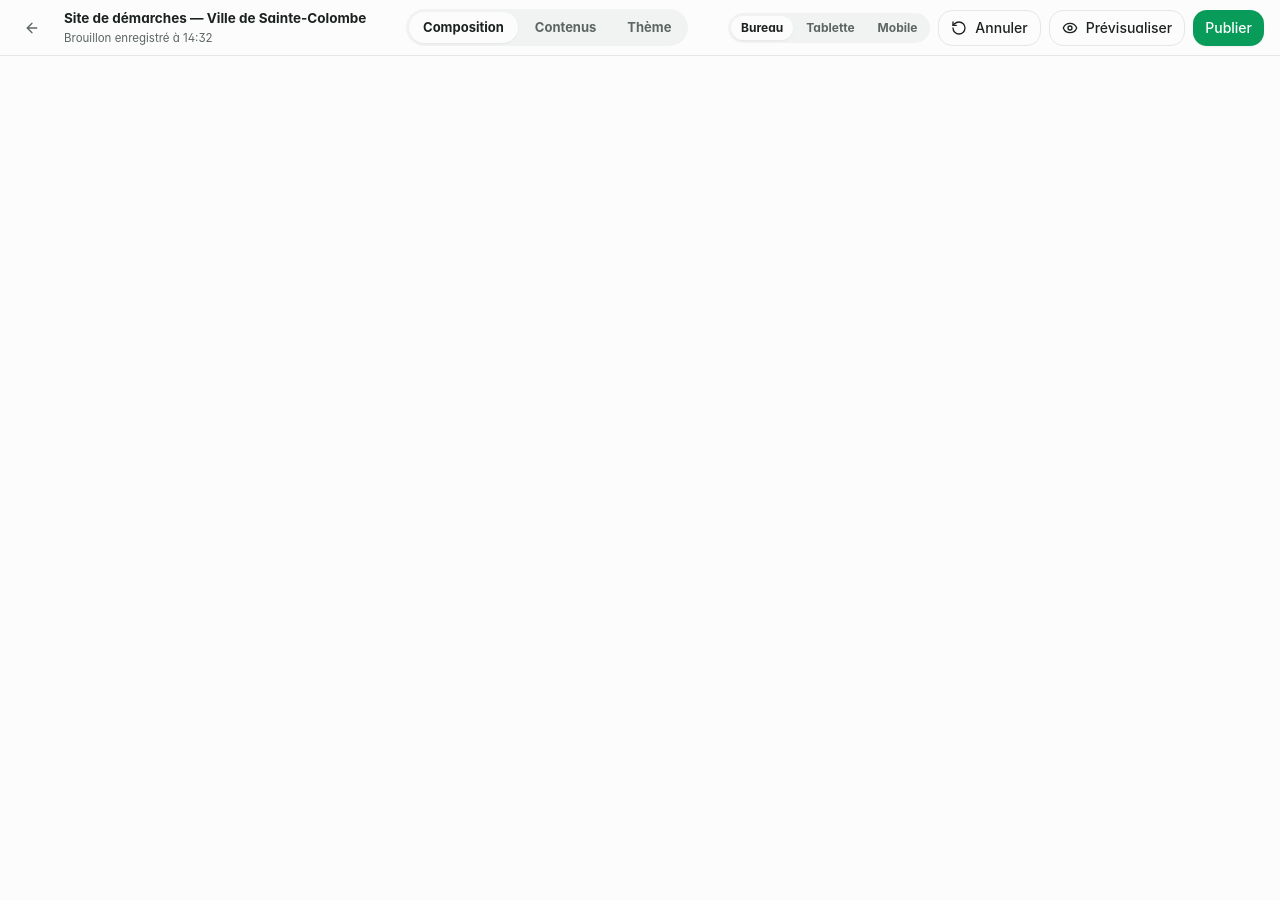
it: PortalEditor — contenus › ni appareil ni aperçu : un texte long ne se prévisualise pas par écran
Click the tab "Contenus". click: (566,28)
box: [521,12,610,43]
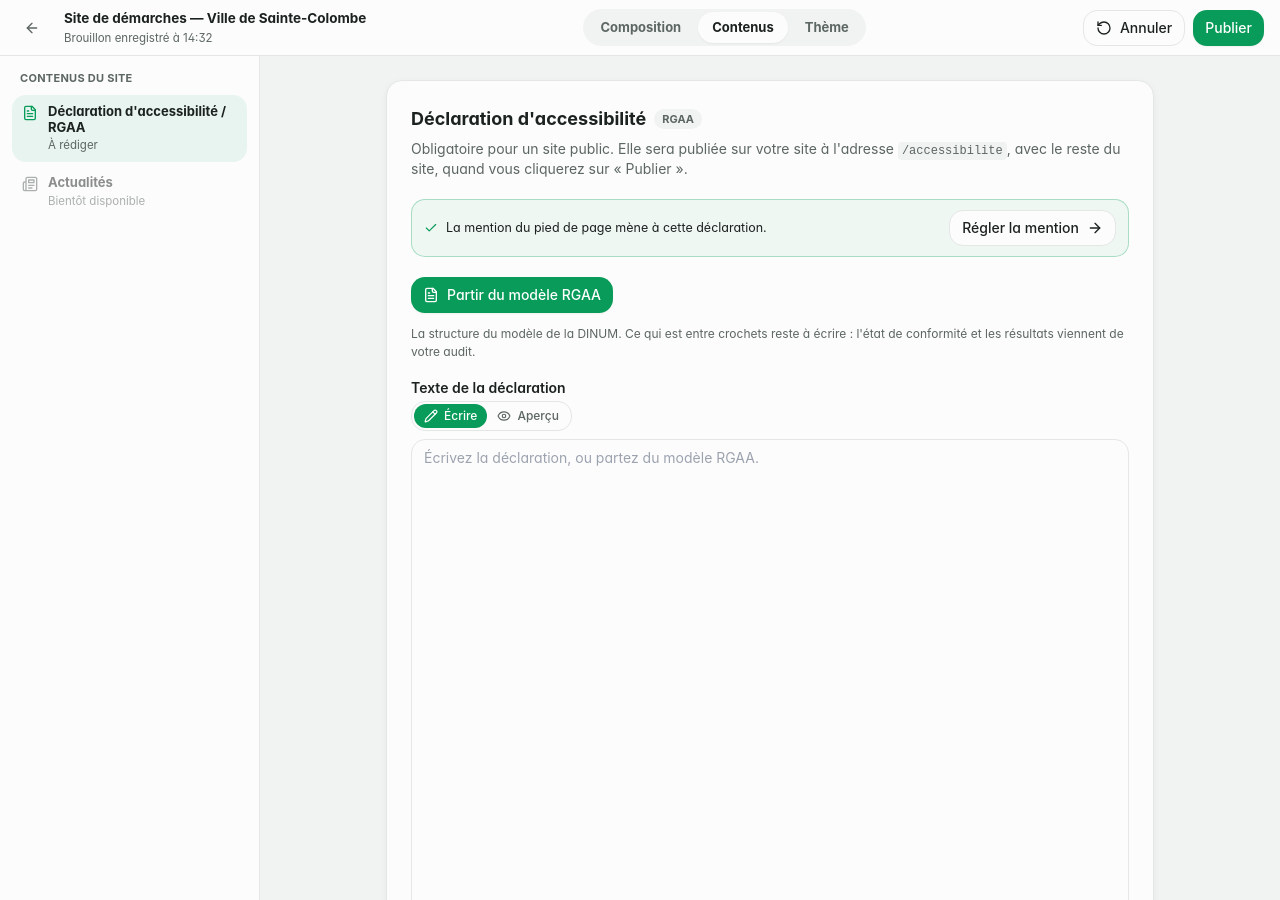
Expected: the button "Publier" is shown, [1193,10,1264,46]
Expected: the element "Appareil" is gone
Expected: the button "Prévisualiser" is gone
